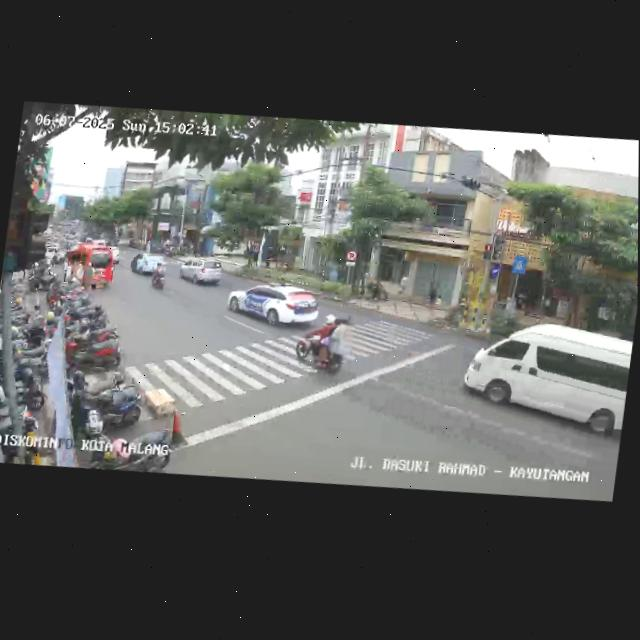car: (455, 307, 632, 451), (228, 275, 320, 337), (61, 239, 117, 295), (176, 253, 225, 290), (129, 249, 168, 279)
motorcycle: (296, 308, 358, 382), (148, 259, 168, 294)
